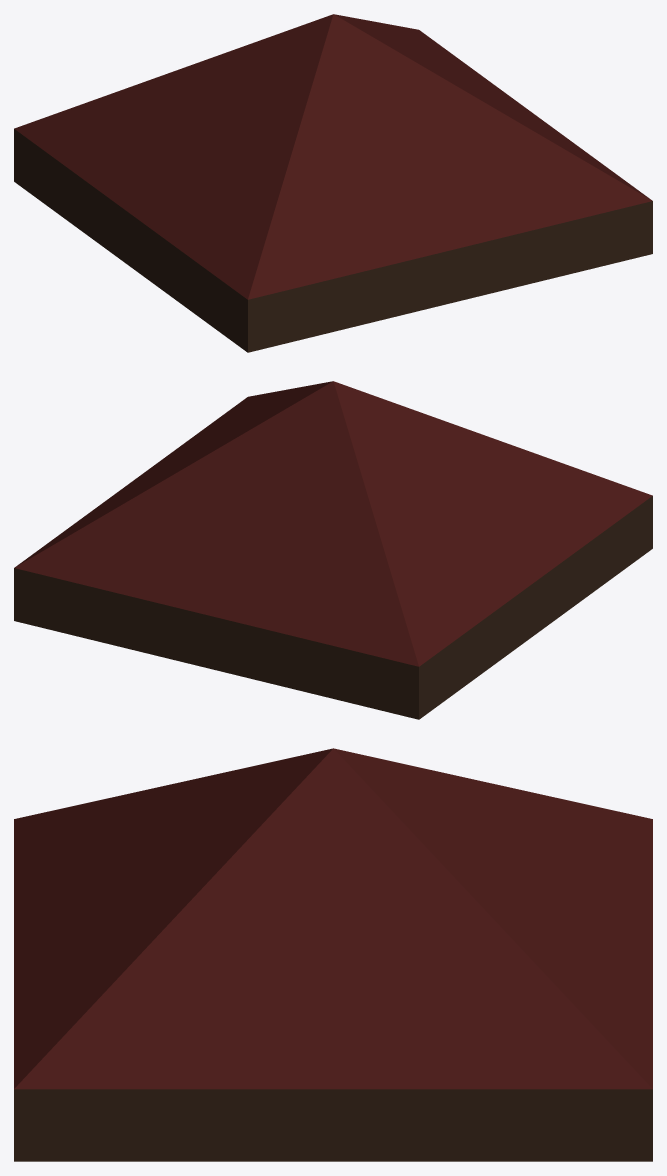
The picture shows the model from 3 angles, top to bottom: view 1: azimuth 30°, elevation 25°; view 2: azimuth 150°, elevation 25°; view 3: azimuth 270°, elevation 25°; orthographic projection. The views are drawn at different scales.
Visible parts, largest first — view 1: Cube.008; view 2: Cube.008; view 3: Cube.008.
Boxes of the visible parts, left/top/right/bottom form: Cube.008: left=14, top=14, right=652, bottom=352; Cube.008: left=14, top=381, right=652, bottom=719; Cube.008: left=14, top=748, right=652, bottom=1161.
Size of the model in its own units: 200 by 96.09 by 200.
